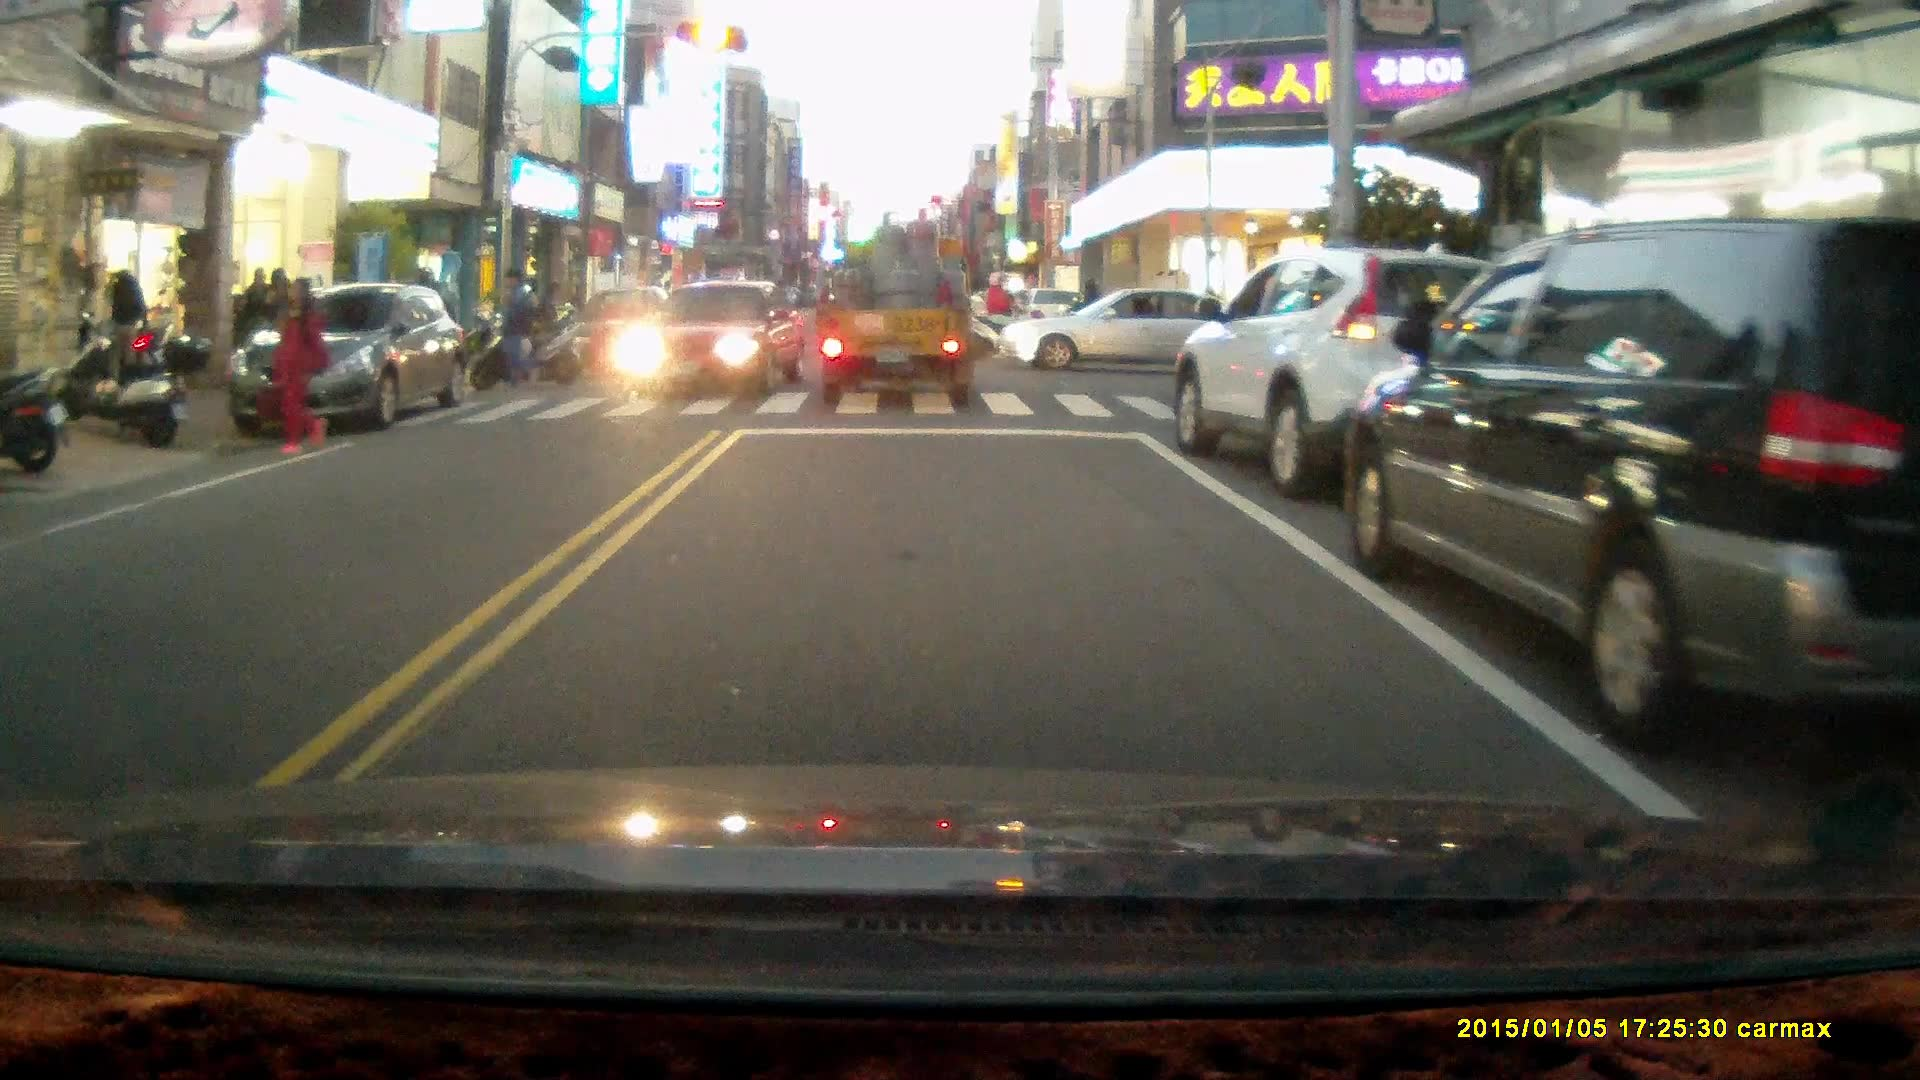pedestrian: (265, 271, 331, 456), (486, 267, 546, 394), (104, 265, 147, 375)
rider: (957, 266, 1043, 356)
vehicle: (1351, 217, 1920, 767), (1172, 246, 1550, 496), (816, 206, 991, 411), (227, 287, 457, 443), (612, 280, 807, 402), (1009, 287, 1261, 374)
